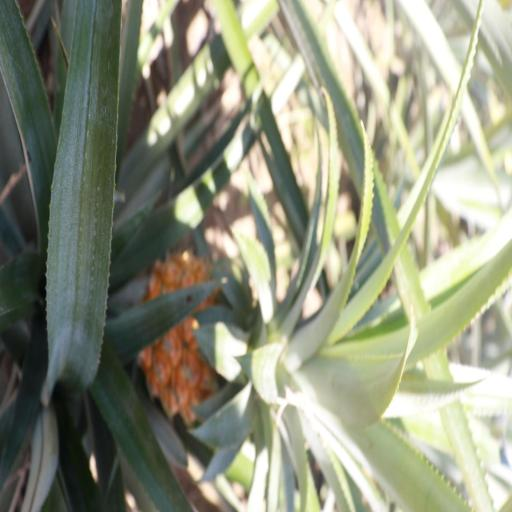Pineapple - v8 v1: (147, 252, 418, 426)
